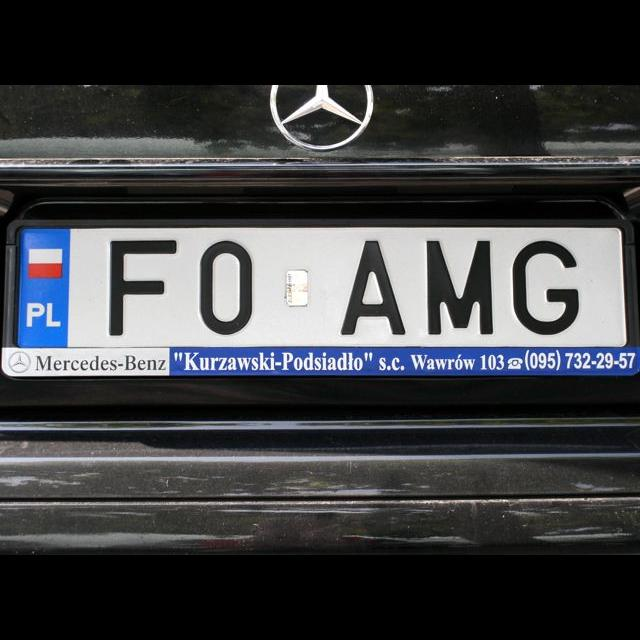pl_license_plate: (16, 225, 628, 345)
